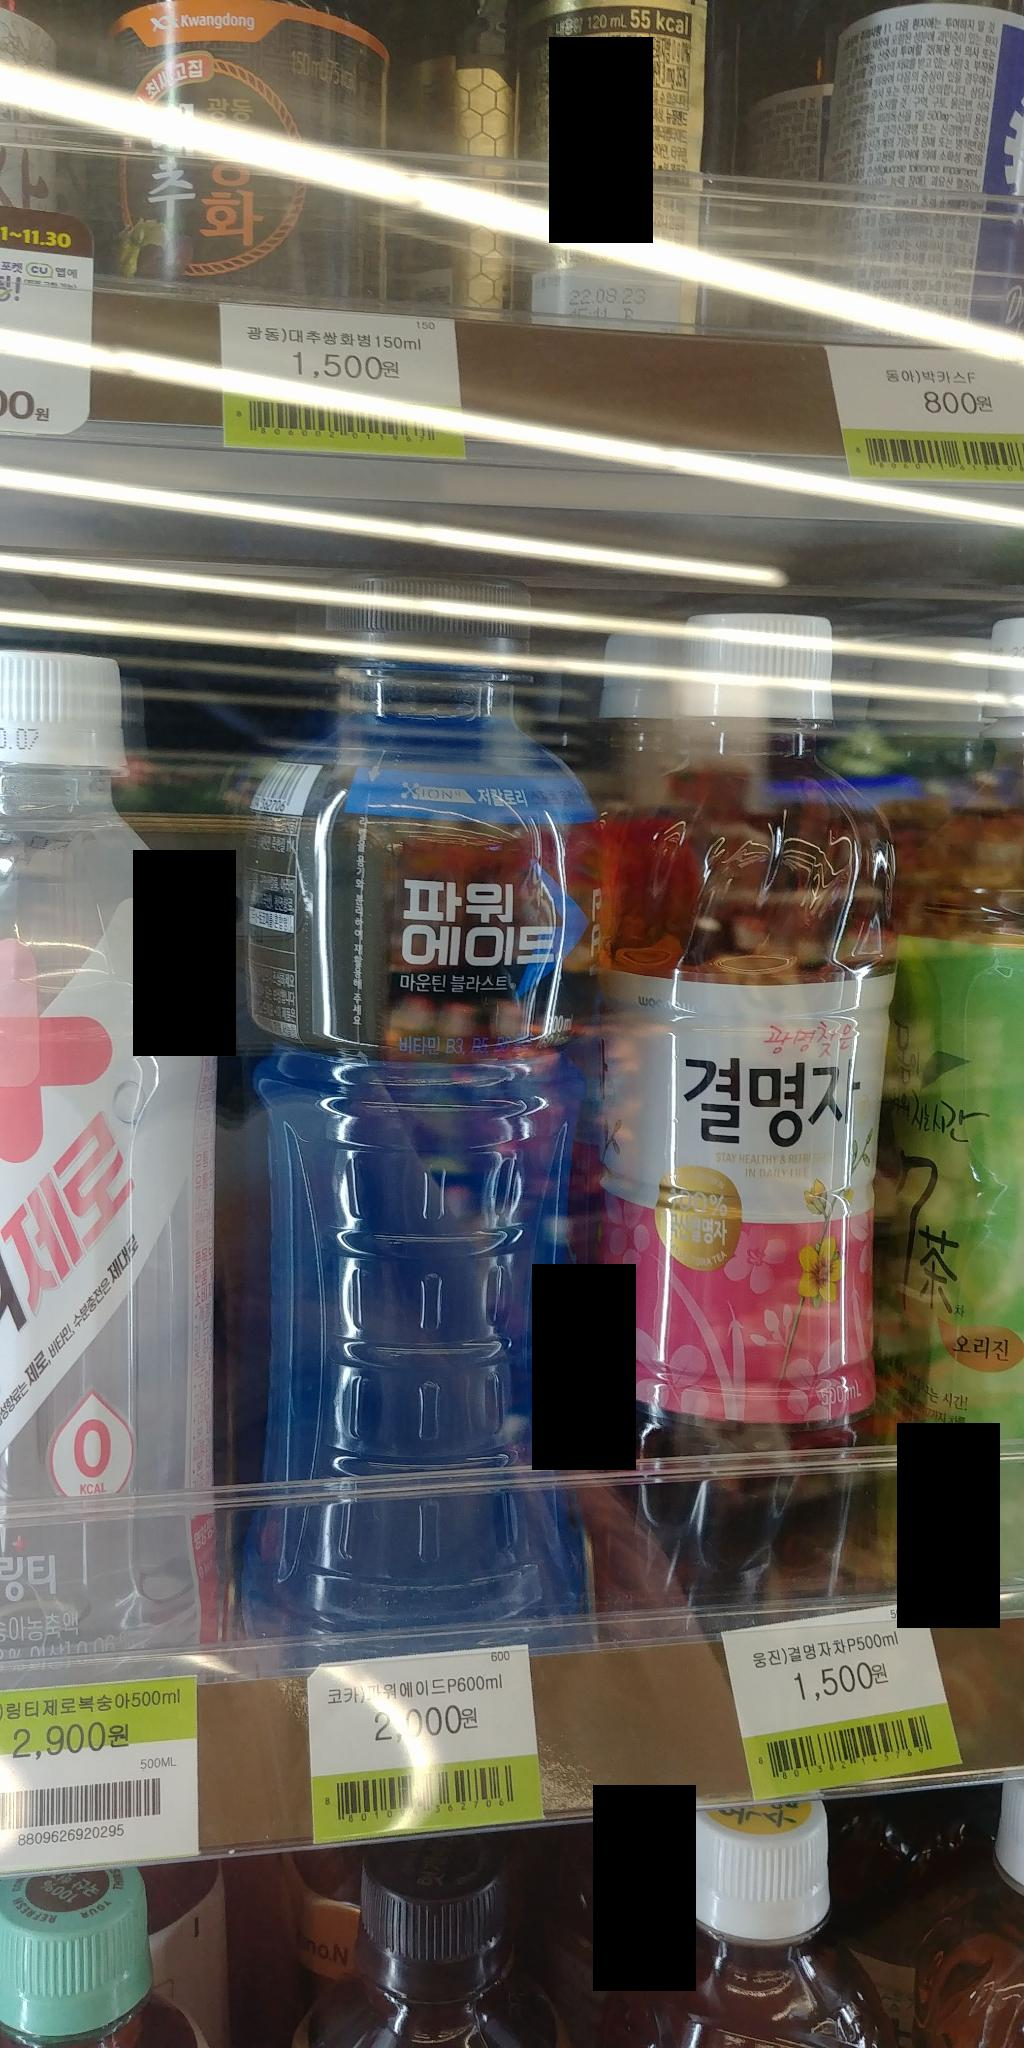powerade_mountainblast: (225, 566, 613, 1671)
